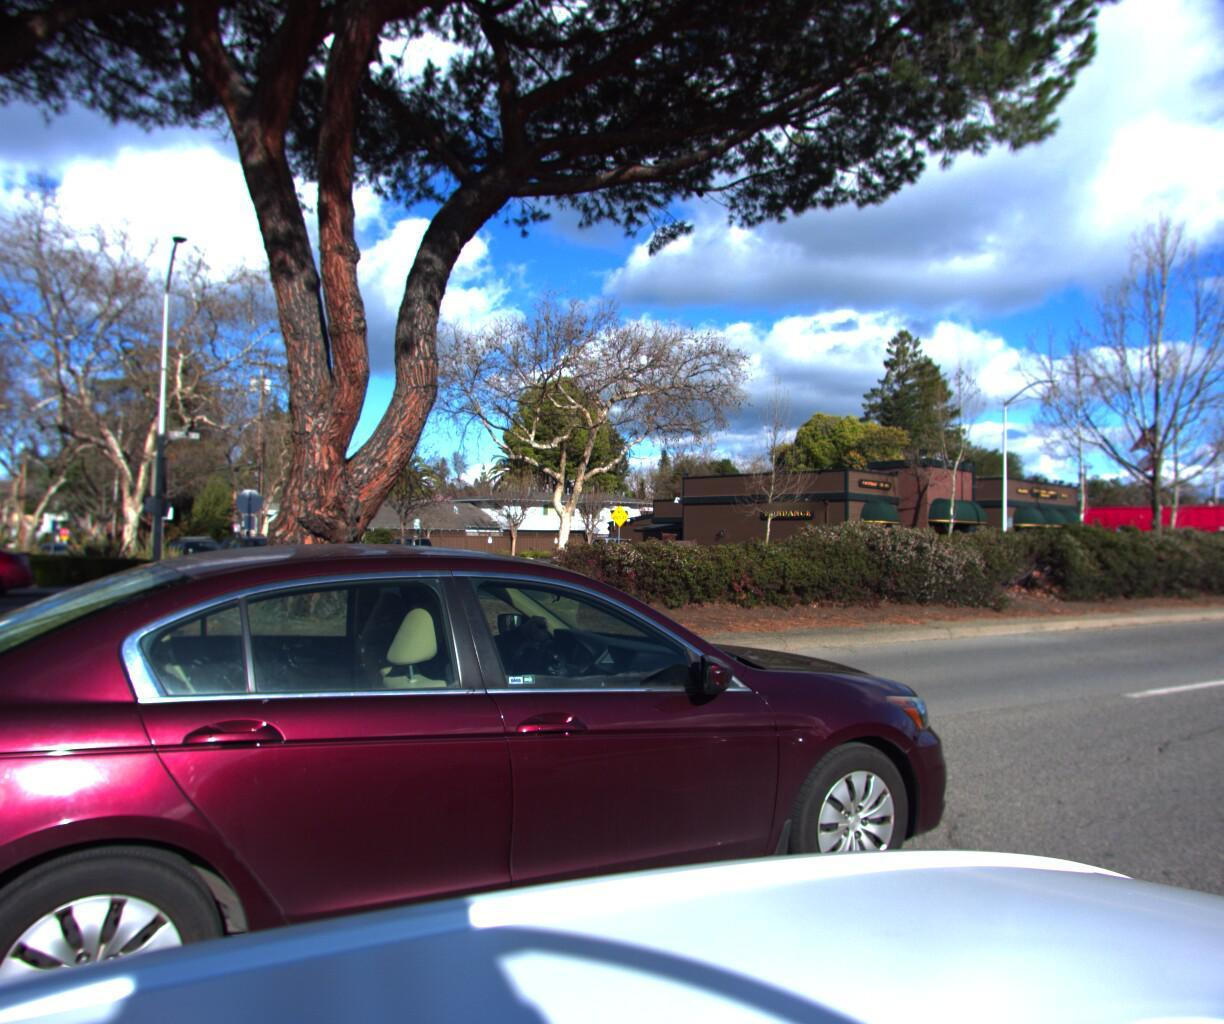car: (0, 526, 982, 1024), (212, 538, 314, 589), (161, 540, 246, 586), (0, 539, 44, 614), (335, 549, 414, 584), (377, 540, 438, 568)
